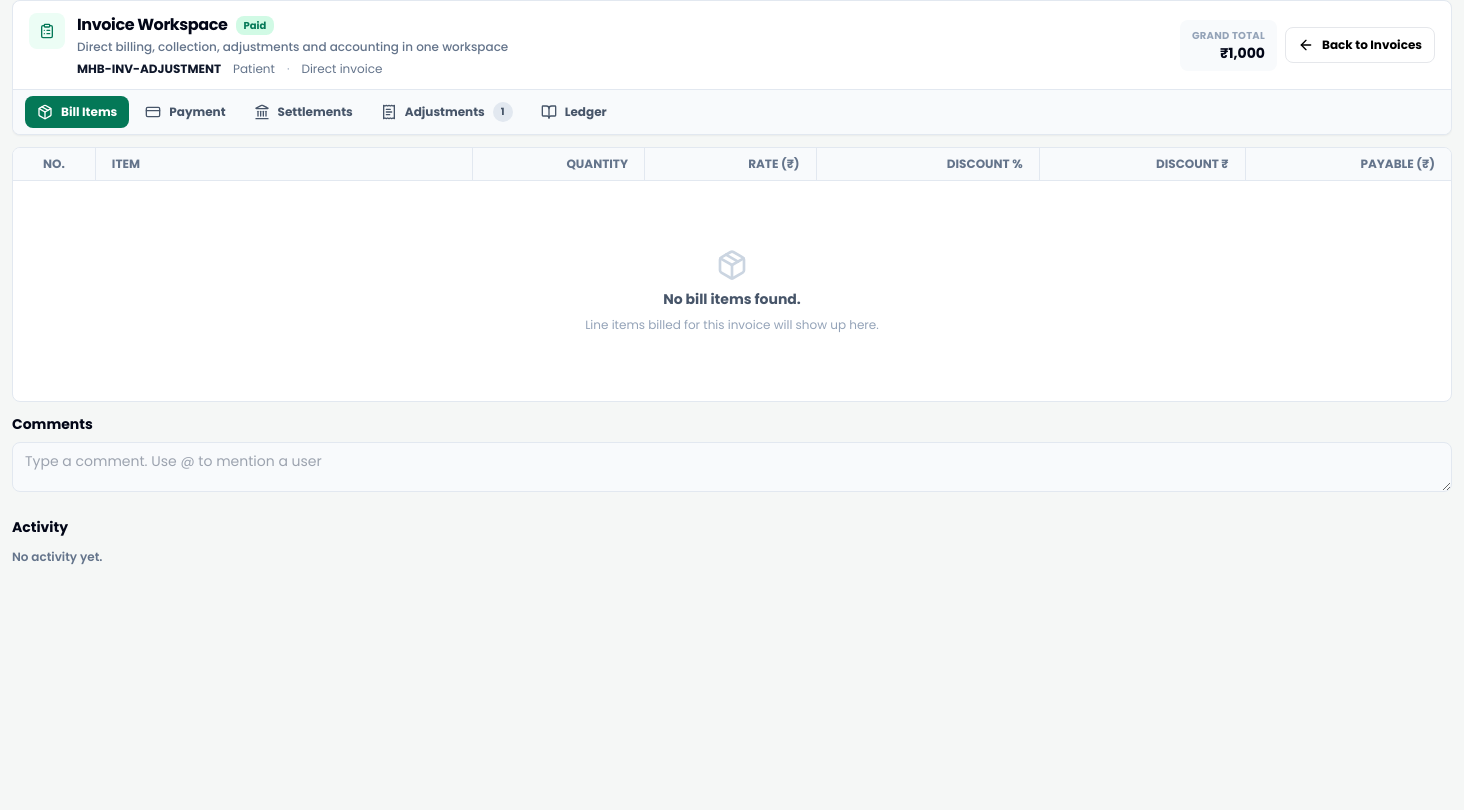
Test: adjustment approval permissions › shows refund decisions only with refund management permission
What coordinates should you click on to do the following:
click the button "Adjustments 1"
I would click on:
 (447, 112)
Its box is left=369, top=96, right=525, bottom=128.
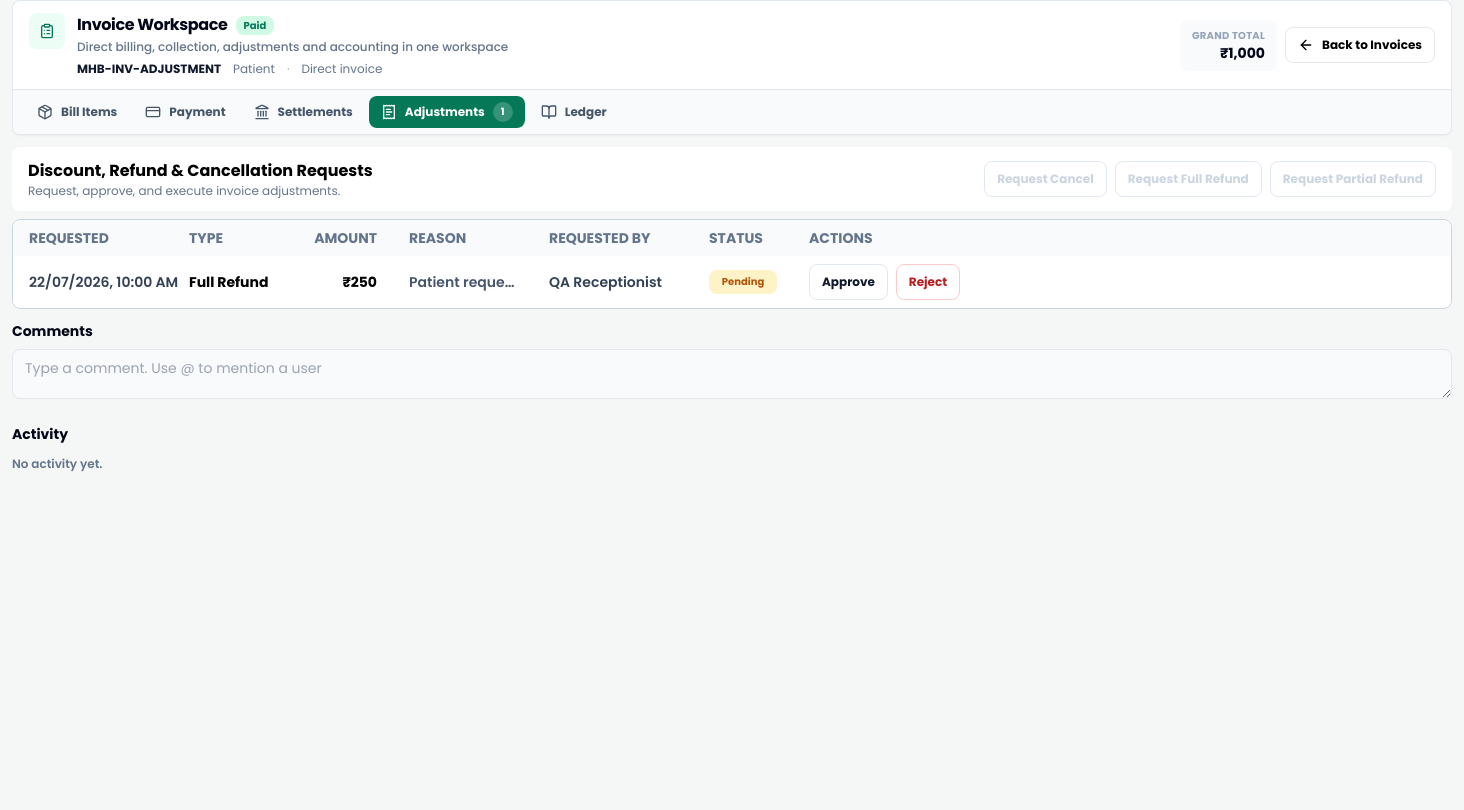
Expected: the button "Approve" is shown, left=809, top=264, right=888, bottom=300
Expected: the button "Reject" is shown, left=896, top=264, right=960, bottom=300
